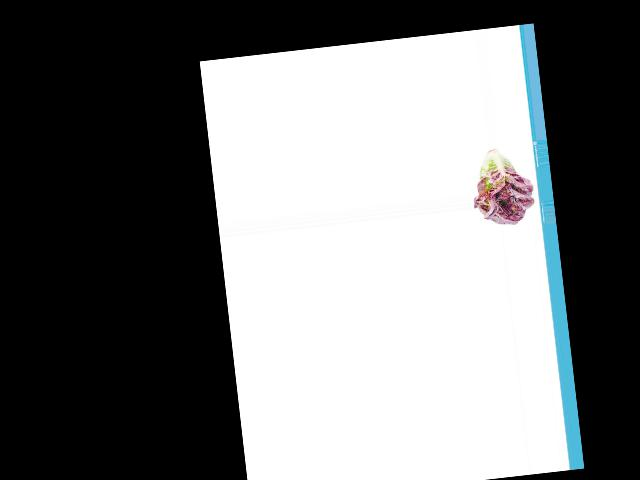lettuce: (470, 144, 537, 227)
